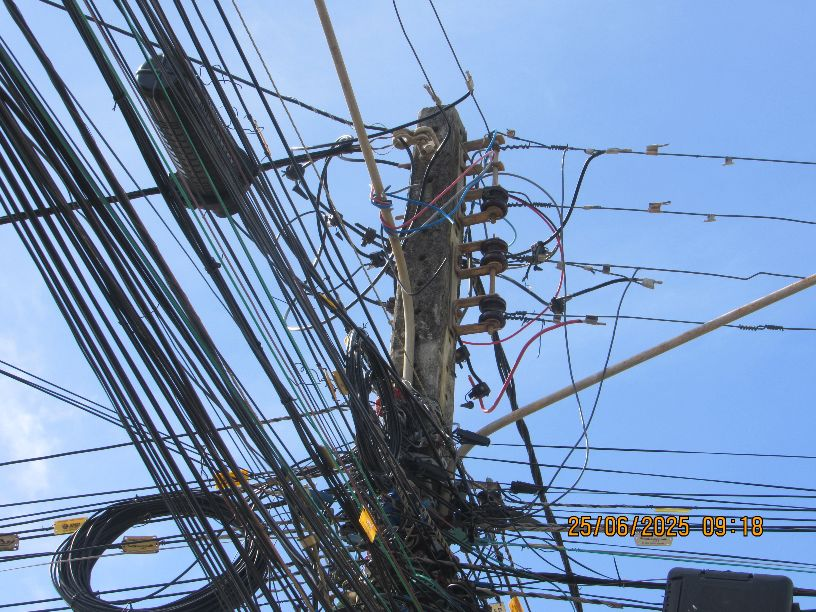caixa_derivacao: (634, 559, 801, 612)
caixa_emenda_fibra: (122, 40, 259, 230)
drop: (435, 417, 539, 508)
fibra_optica: (412, 545, 568, 606)
reserva_tecnica: (51, 468, 274, 612)
